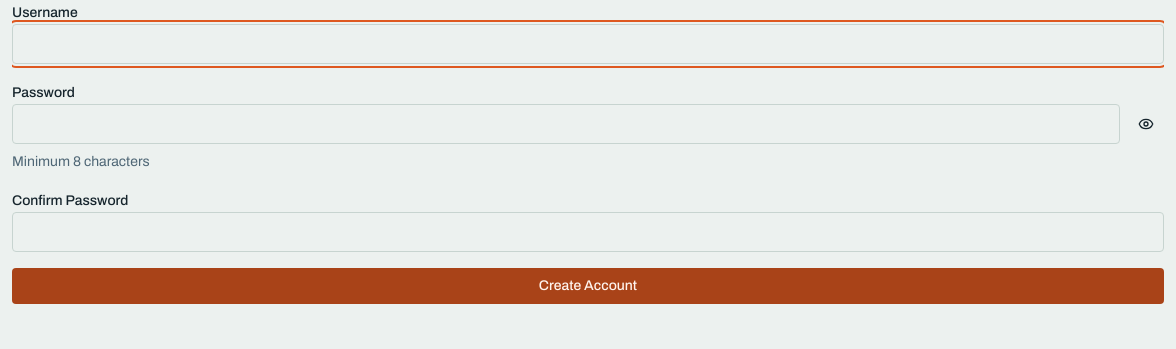
Test: LoginForm › password complexity (setup) › blocks submit when confirm-password does not match
Type "admin" into the field labelled "Username".
click(588, 44); type("admin")  # box [12, 24, 1164, 64]
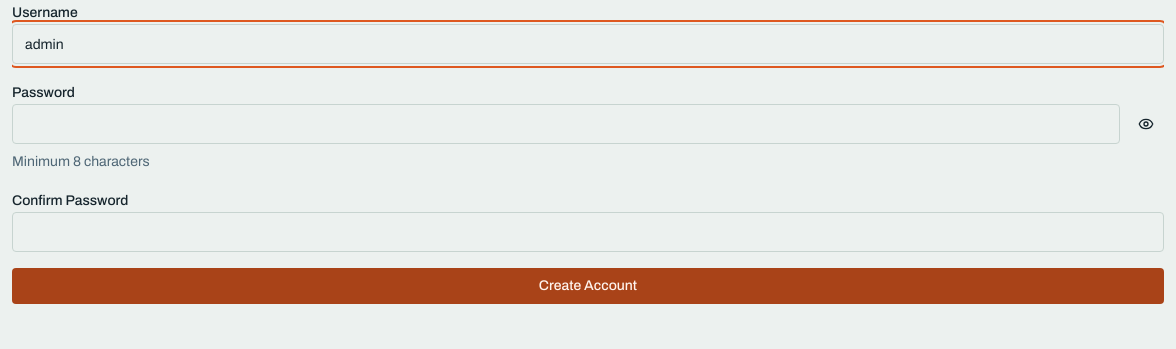
Type "Str0ng!pass" into the password field labelled "Password".
click(566, 124); type("Str0ng!pass")  # box [12, 104, 1120, 144]
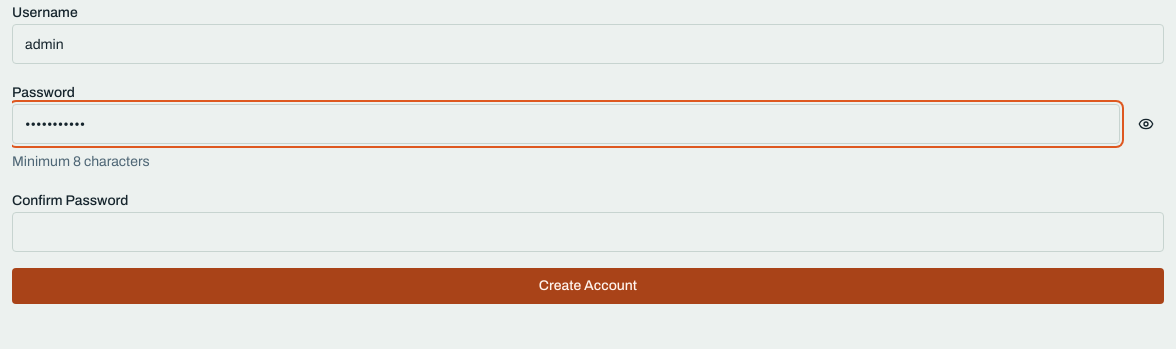
Type "Str0ng!different" into the password field labelled "Confirm Password".
click(588, 232); type("Str0ng!different")  # box [12, 212, 1164, 252]
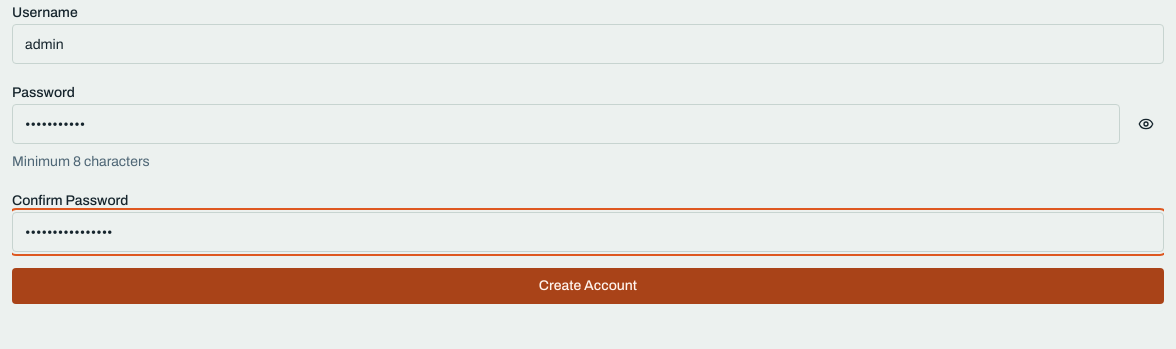
Click the button "Create Account".
click(588, 286)  # box [12, 268, 1164, 304]
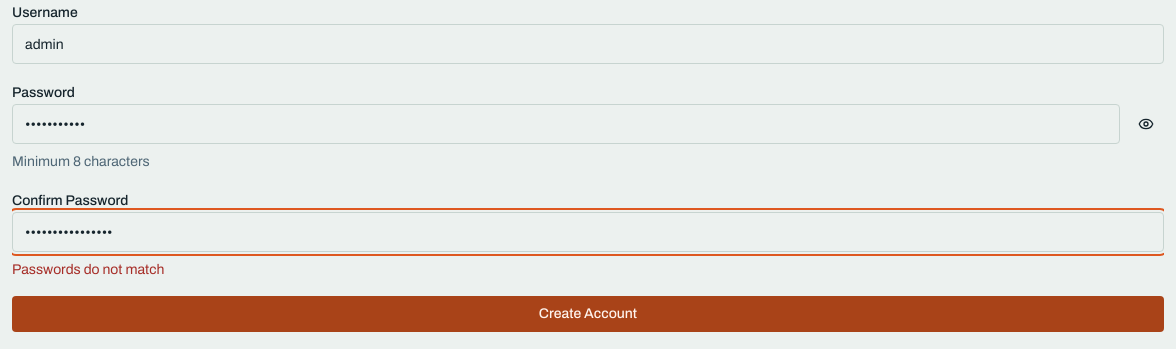
Expected: the text "Passwords do not match" is shown, [12, 262, 164, 277]
